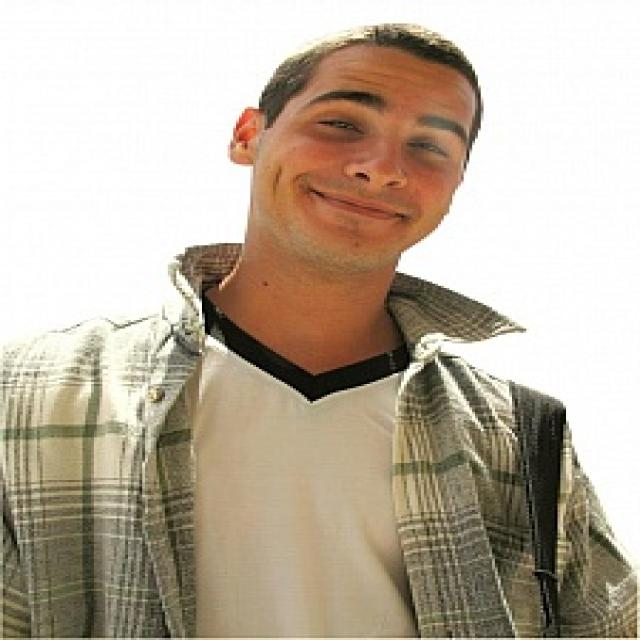Eyes: (301, 106, 466, 167)
